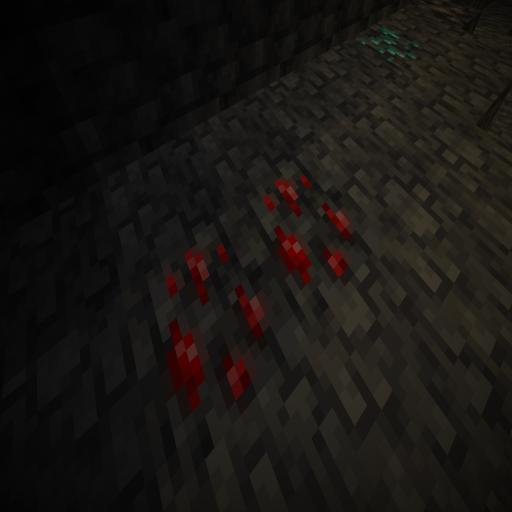diamond ore: (358, 14, 423, 76)
redstone ore: (155, 166, 356, 425)
